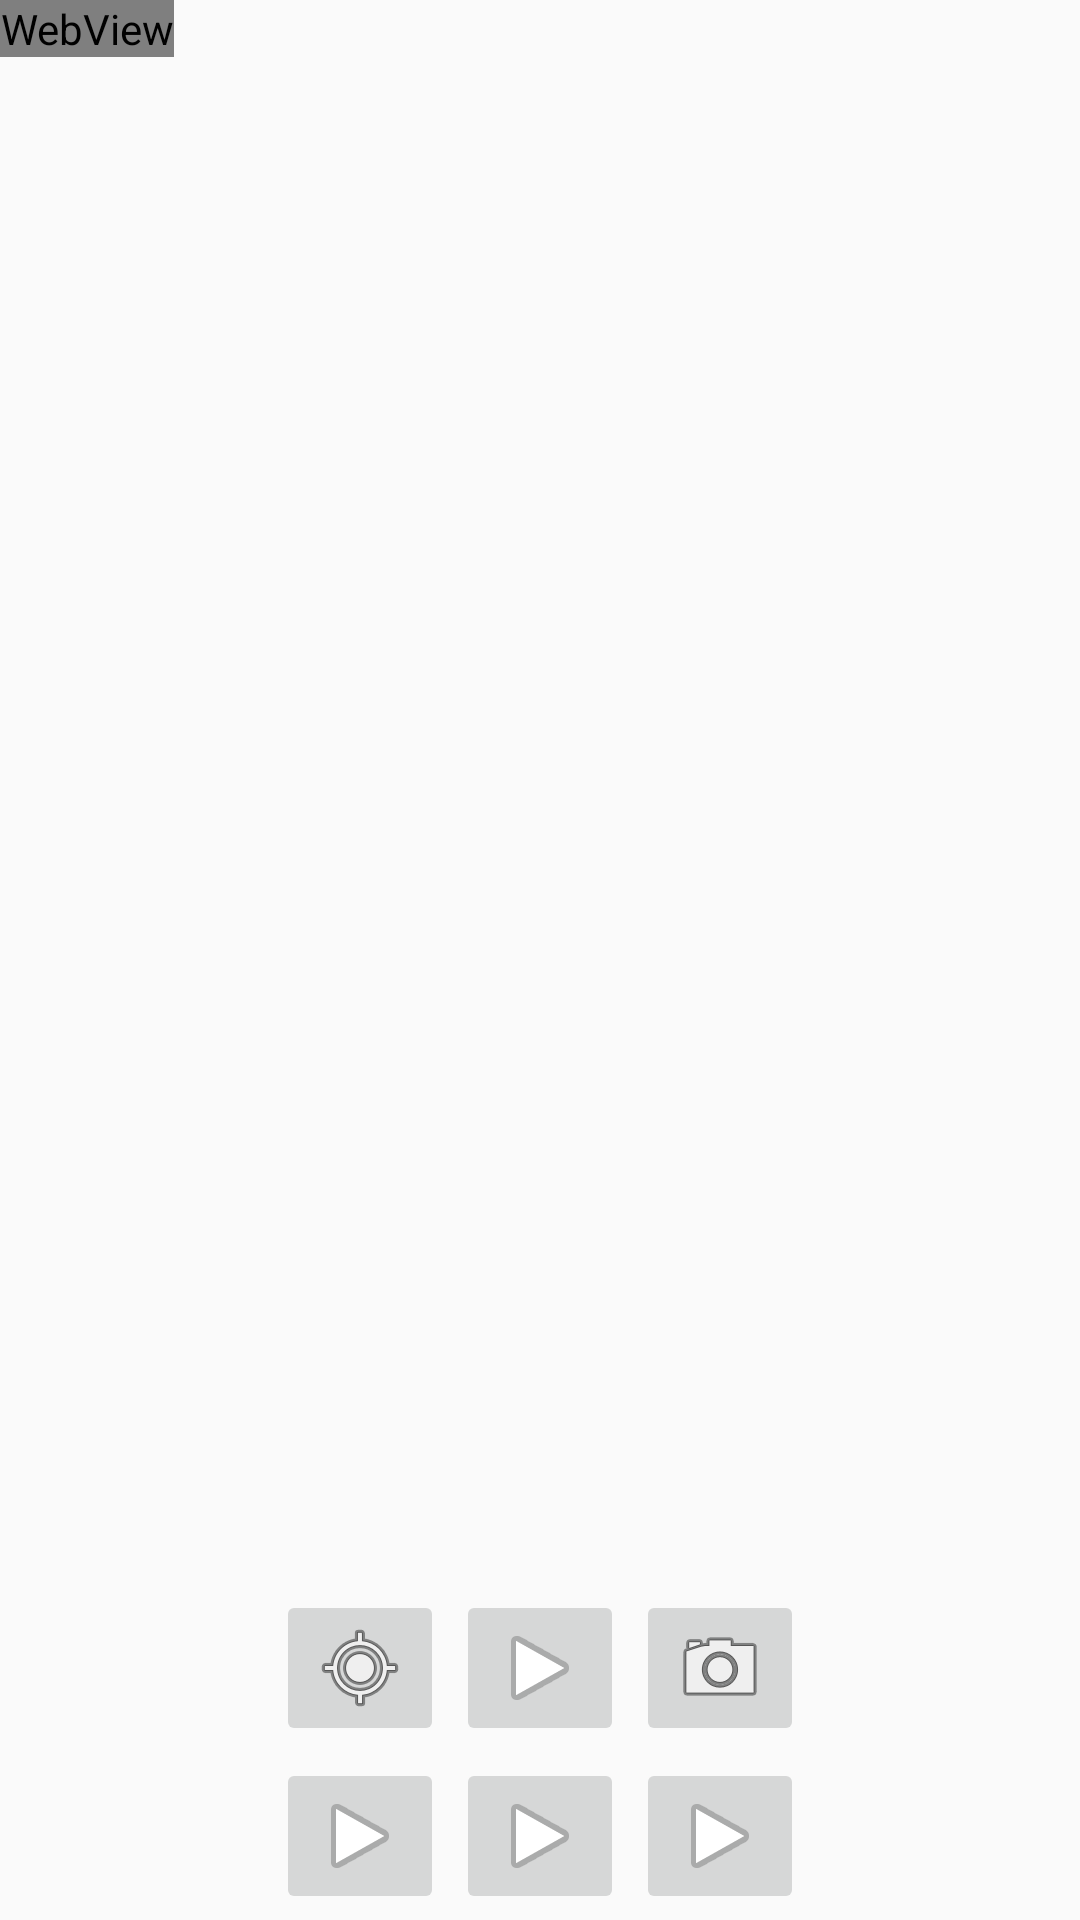

Icons on this 1080px x 1920px Android screen, each with the point to tap as (x=x, y=y):
camera: (x=720, y=1668)
mylocation: (x=360, y=1668)
play: (x=540, y=1668), (x=360, y=1836), (x=540, y=1836), (x=720, y=1836)
